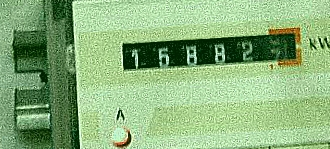1: (127, 45, 142, 68)
2: (237, 38, 255, 63)
5: (154, 42, 170, 69)
7: (268, 42, 281, 60)
8: (210, 40, 226, 65), (183, 42, 197, 66)
screen: (110, 17, 311, 88)
